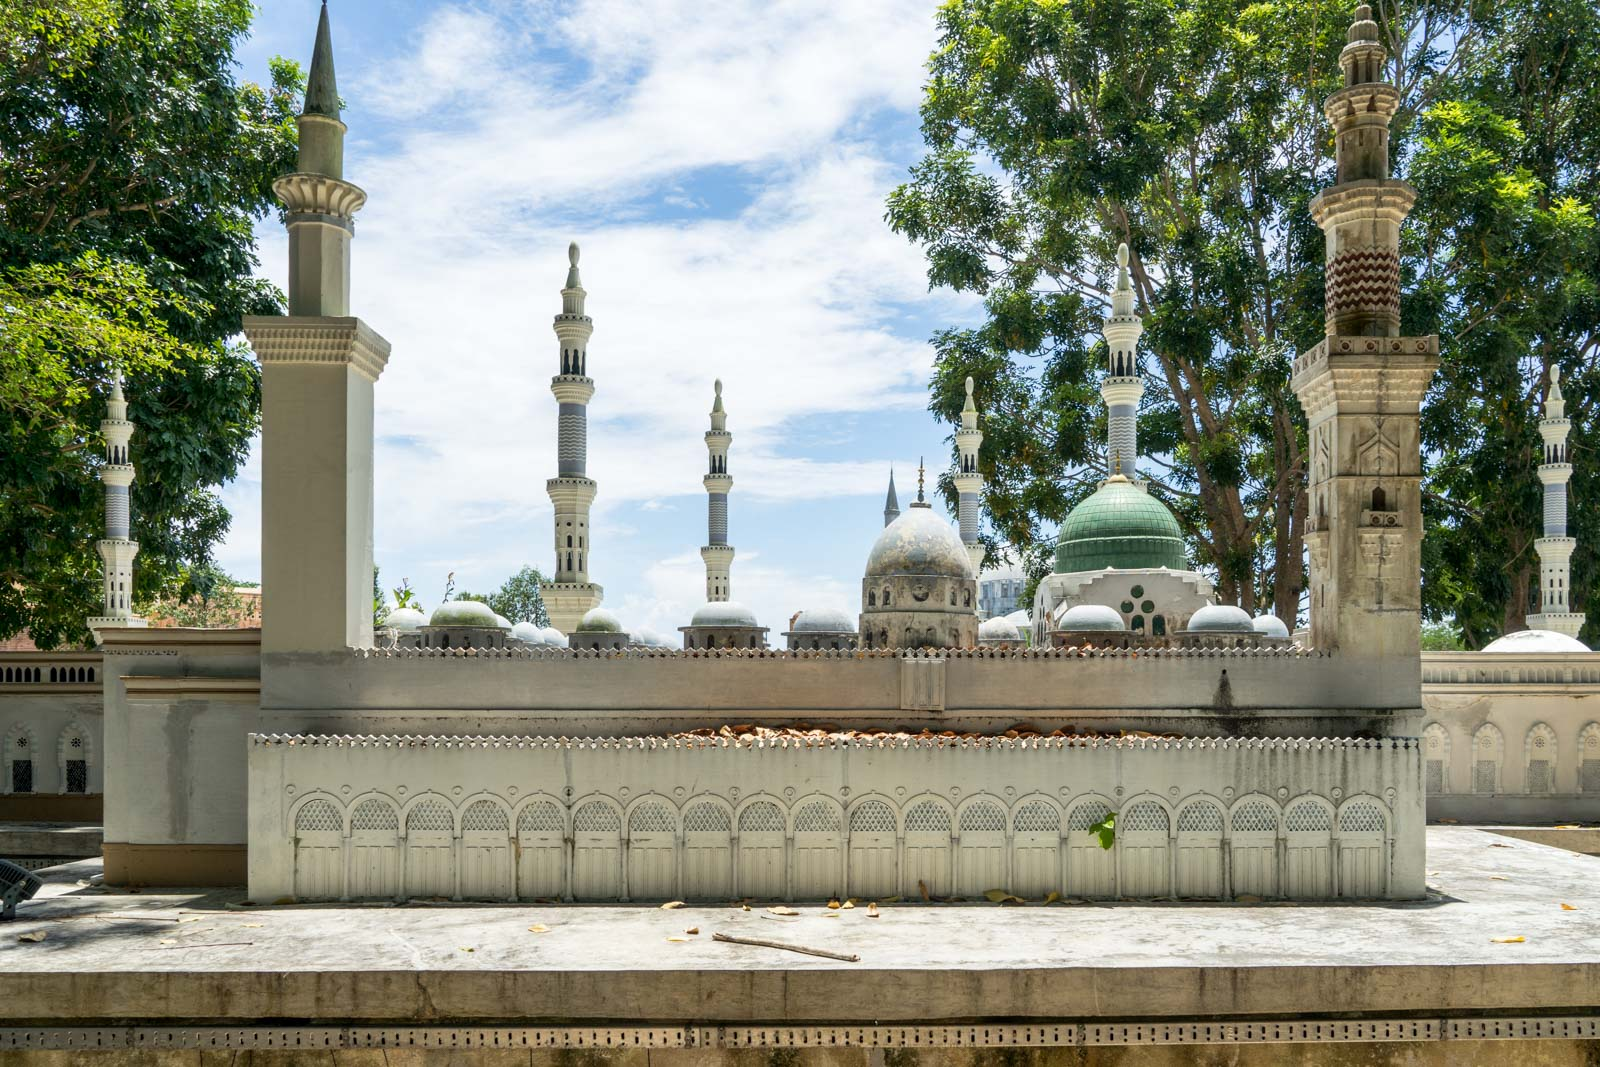Mosque: (208, 64, 1435, 843)
